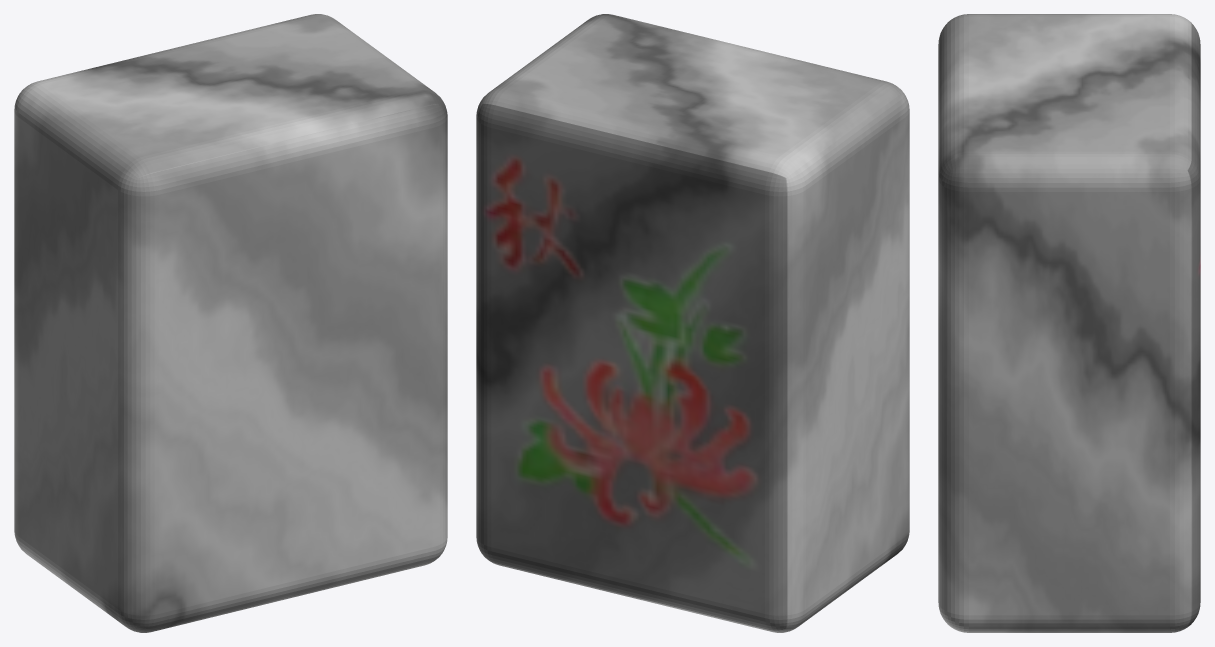
Rendered from flower7.fbx.
3 views of the same model, side by side, from view 1: azimuth 30°, elevation 25°; view 2: azimuth 150°, elevation 25°; view 3: azimuth 270°, elevation 25° (orthographic).
Visible parts, largest first — view 1: flower7; view 2: flower7; view 3: flower7.
Part boxes in pixels (x1,y1,x2,y2): flower7: (14,14,447,632); flower7: (476,14,909,632); flower7: (938,14,1200,632).
Size of the model in its own units: 100 by 139 by 69.
Materials: 1 (1 with a texture image).
